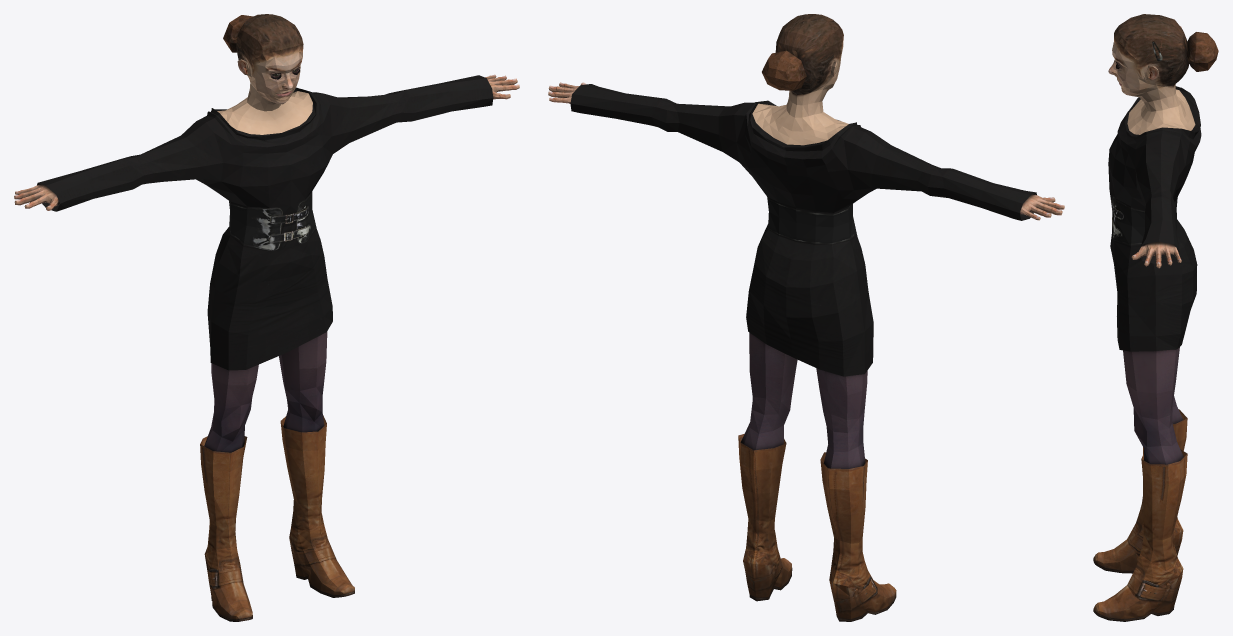
Rendered from Ana_Model.obj.
3 renders of one model, left to right at view 1: azimuth 30°, elevation 25°; view 2: azimuth 150°, elevation 25°; view 3: azimuth 270°, elevation 25°, orthographic. The views are drawn at different scales.
Size of the model in its own units: 8.08 by 8.82 by 1.74.
Materials: 1 (1 with a texture image).
